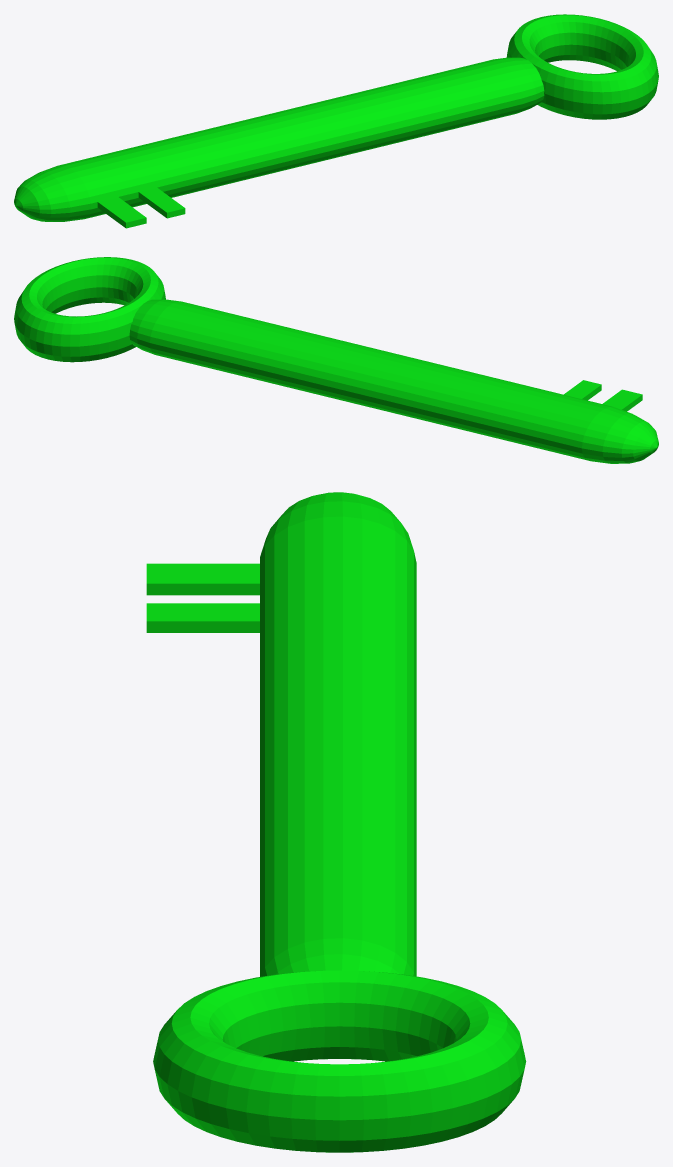
File: Key_Green.fbx
The picture shows the model from 3 angles, top to bottom: view 1: azimuth 30°, elevation 25°; view 2: azimuth 150°, elevation 25°; view 3: azimuth 270°, elevation 25°; orthographic projection. The views are drawn at different scales.
Parts seen in each view (by area): view 1: Key_Green; view 2: Key_Green; view 3: Key_Green.
Boxes of the visible parts, box(x1,y1,x2,y2) form: Key_Green: box(14, 14, 658, 228); Key_Green: box(14, 257, 658, 463); Key_Green: box(146, 492, 526, 1152).
Size of the model in its own units: 8.51 by 0.6 by 2.23.
